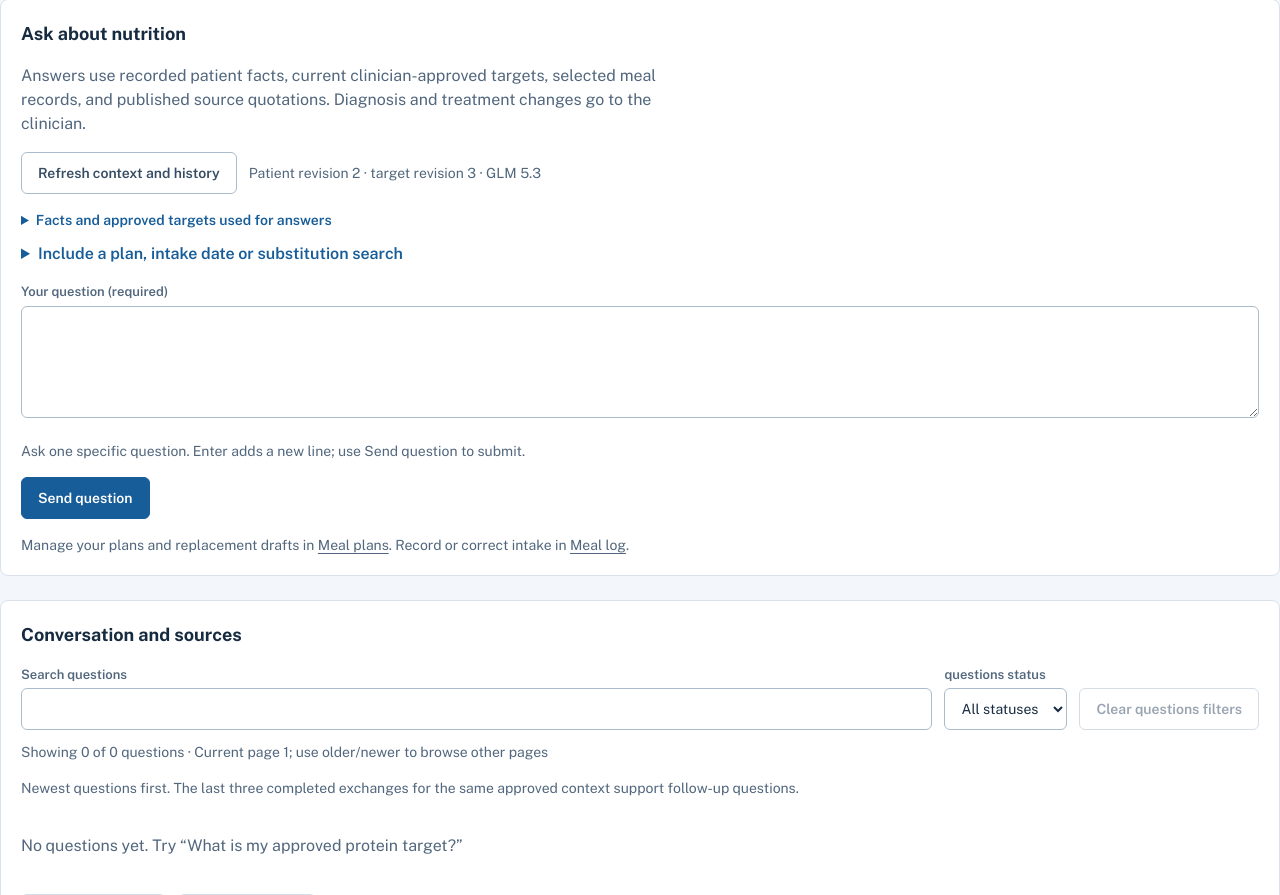
Test case: chat pins approved revisions, preserves Enter as a newline, and displays original citations
The image size is (1280, 895).
Expected: the text "Patient revision 2 · target revision 3 · GLM 5.3" is shown, [249,163,541,183]
Type "What is my protein target?" into the text box labelled "Your question (required)" at (640, 362), box [21,306,1259,418]
Then press Enter
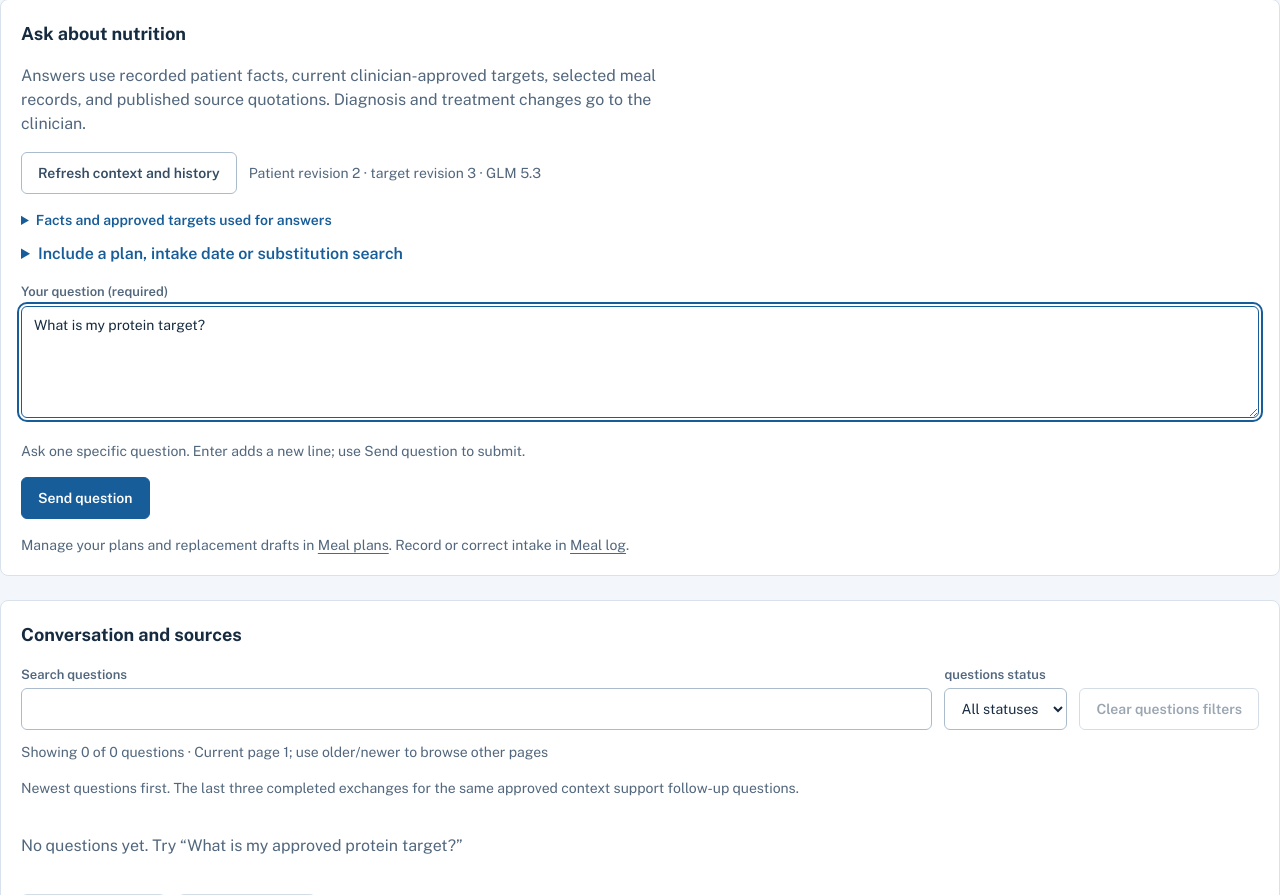
Click the button "Send question" at (85, 498), box [21,476,150,518]
(page scrolled)
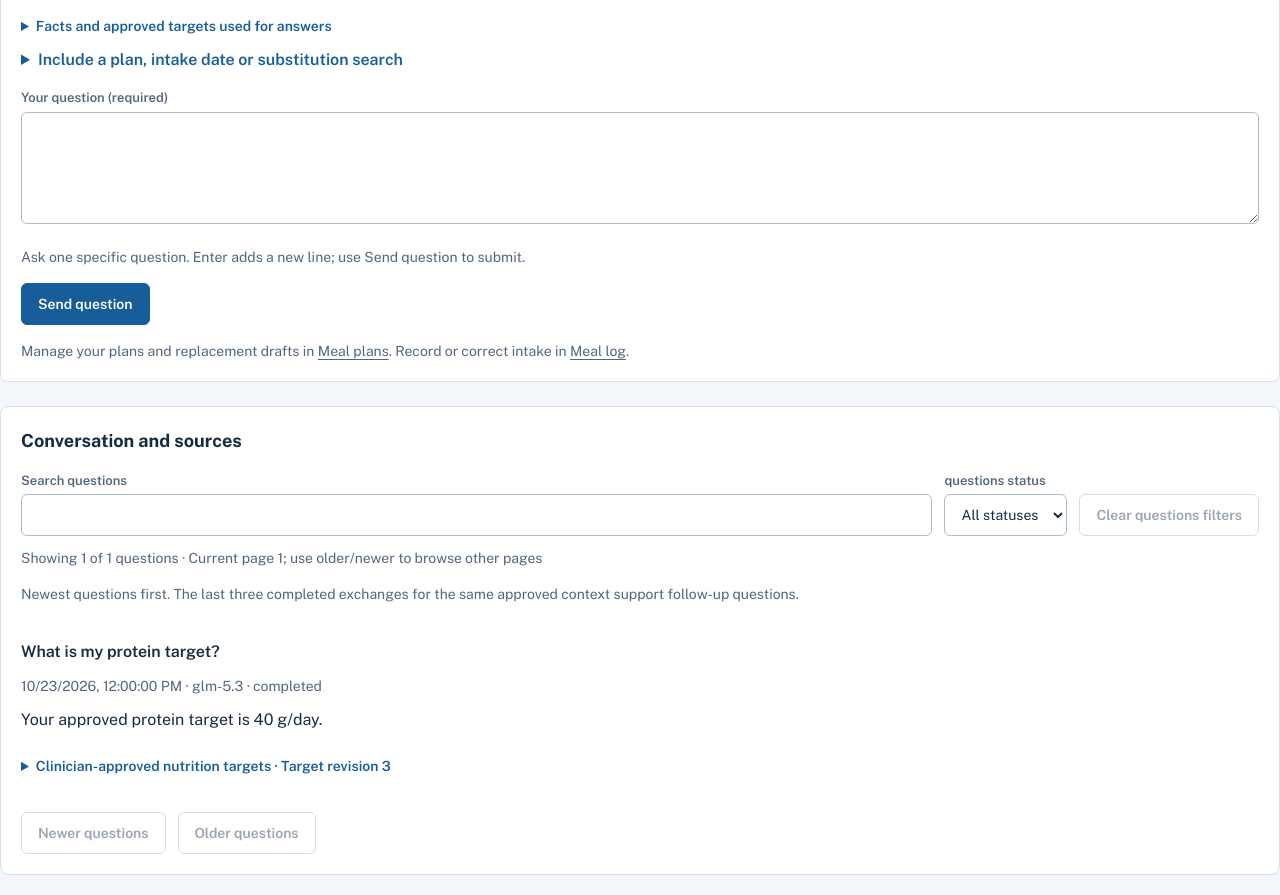
Now the text "Your approved protein target is 40 g/day." is shown, box [21,710,322,729]
Click the heading "Clinician-approved nutrition targets · Target revision 3" at (213, 766), box [36,758,391,774]
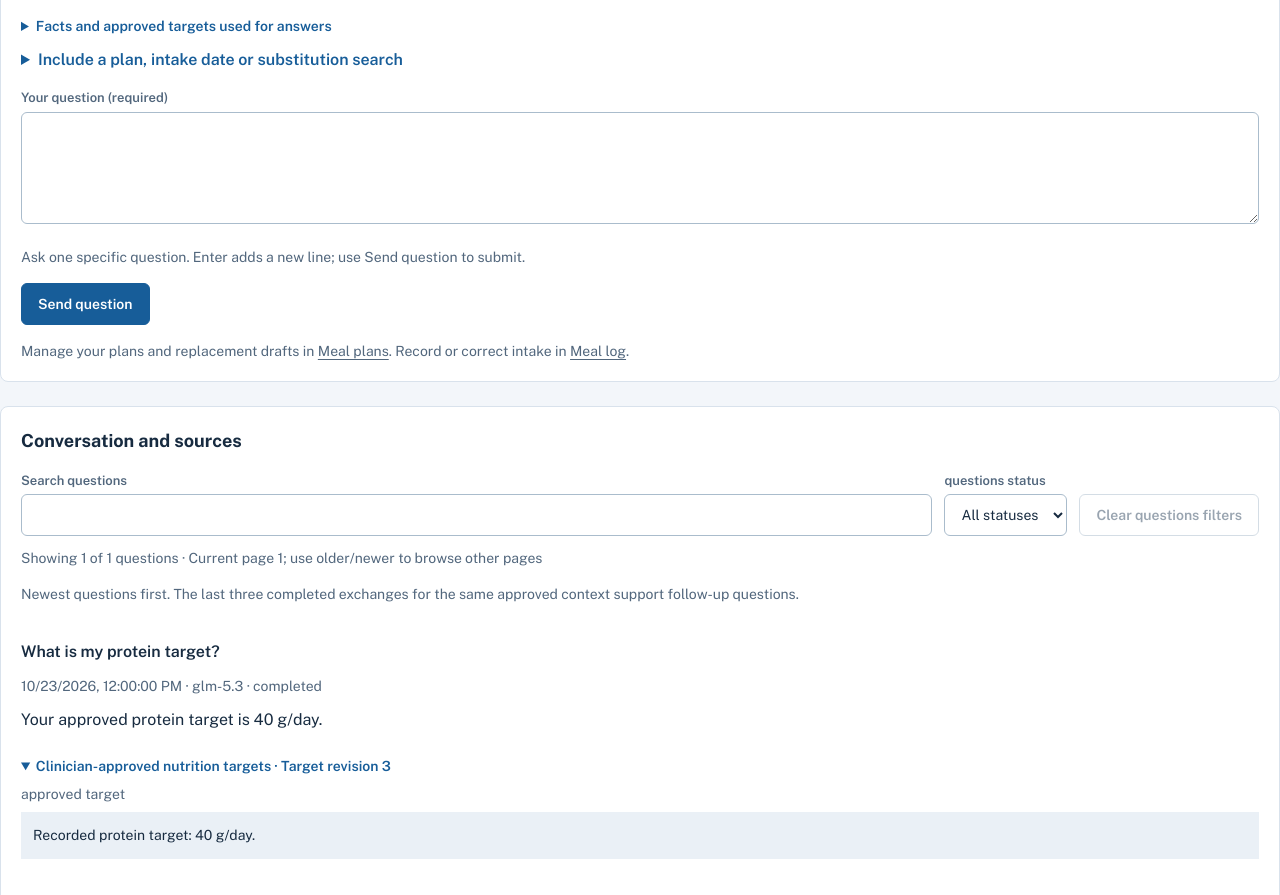
Now the text "Recorded protein target: 40 g/day." is shown, box [33,827,255,843]
